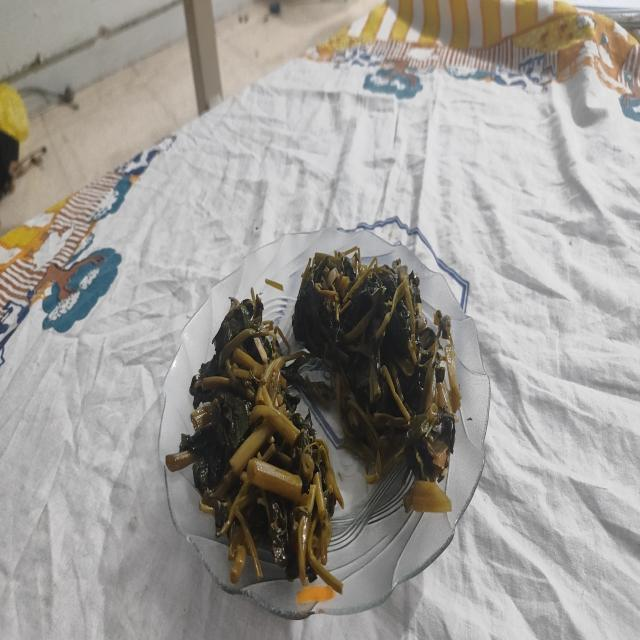tumis_kangkung: (180, 288, 344, 594), (292, 246, 461, 484)
